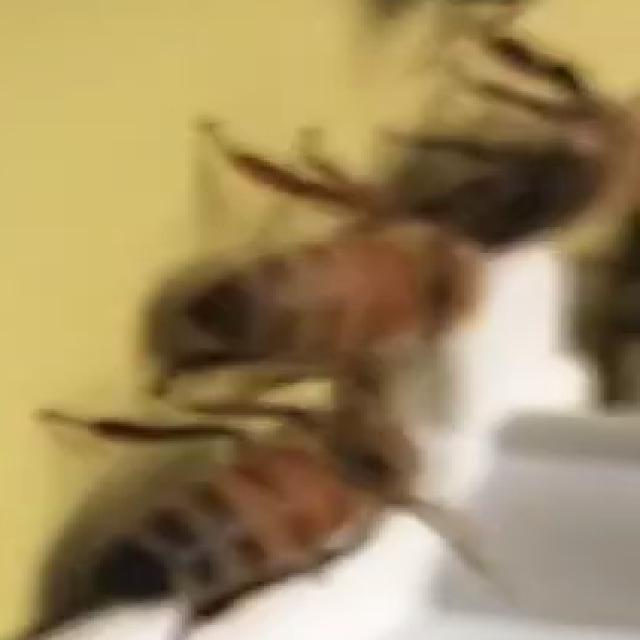honeybee: (73, 385, 456, 632), (117, 181, 477, 359), (401, 49, 640, 243)
